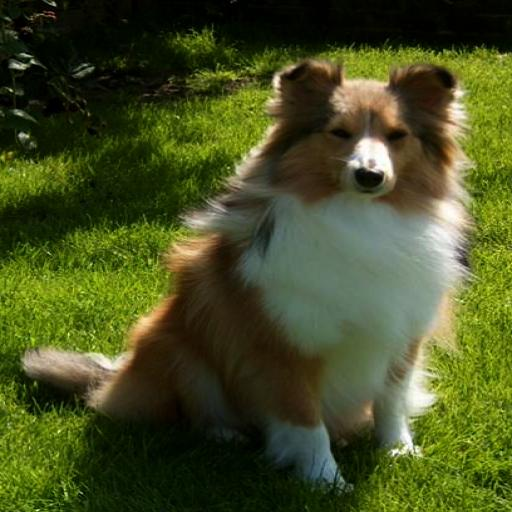dog_face: (267, 54, 466, 207)
